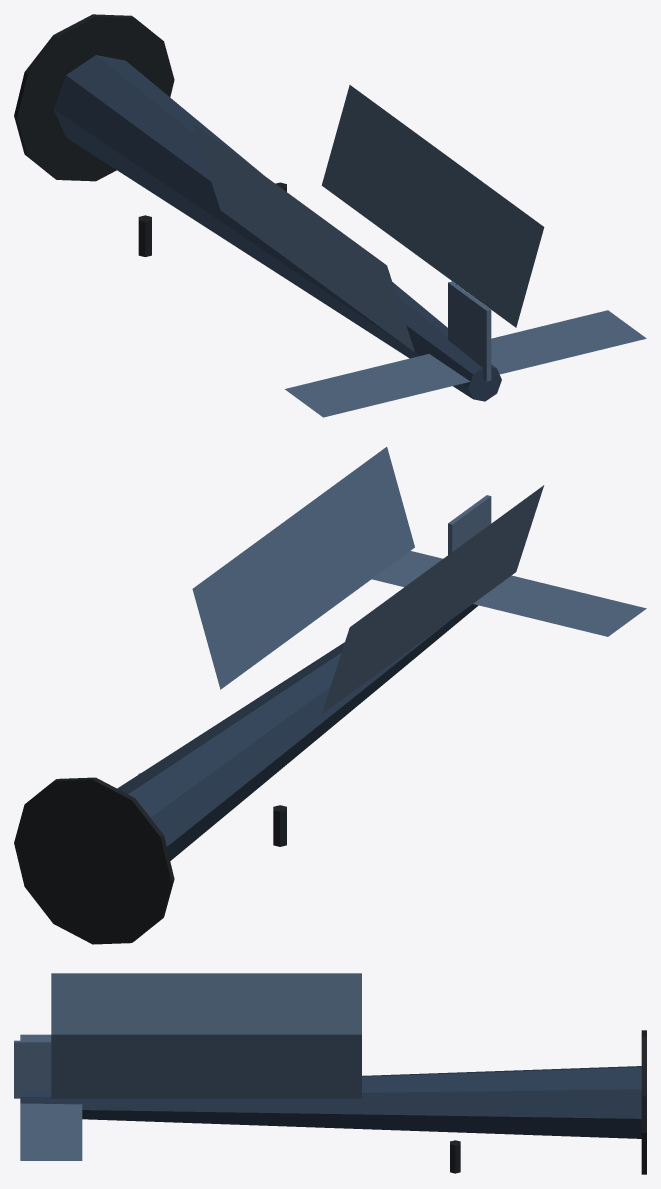
Rendered from plane_us_bomber_folded.glb.
3 renders of one model, top to bottom at view 1: azimuth 30°, elevation 25°; view 2: azimuth 150°, elevation 25°; view 3: azimuth 270°, elevation 25°, orthographic. The views are drawn at different scales.
Visible parts, largest first — view 1: Hull; view 2: Hull; view 3: Hull.
Boxes of the visible parts, x1,y1,x2,y2 form: Hull: [14, 14, 646, 417]; Hull: [14, 447, 646, 944]; Hull: [14, 973, 646, 1174].
Size of the model in its own units: 5.76 by 3.5 by 12.22.
